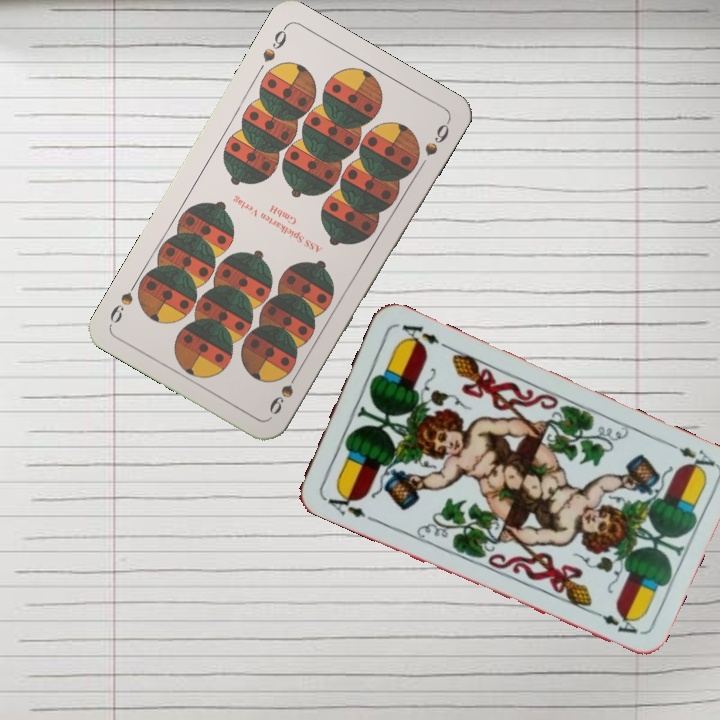EA: (661, 436, 717, 476), (319, 485, 375, 524)
S9: (265, 365, 303, 418), (258, 22, 290, 65)
